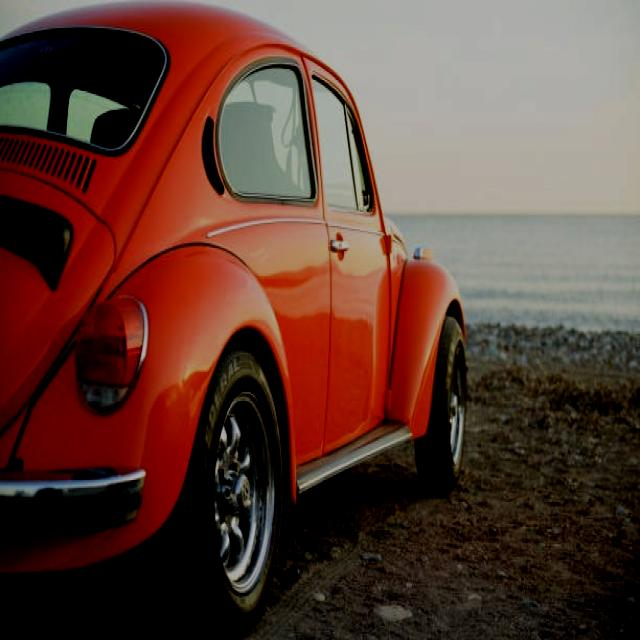car: (1, 1, 467, 629)
